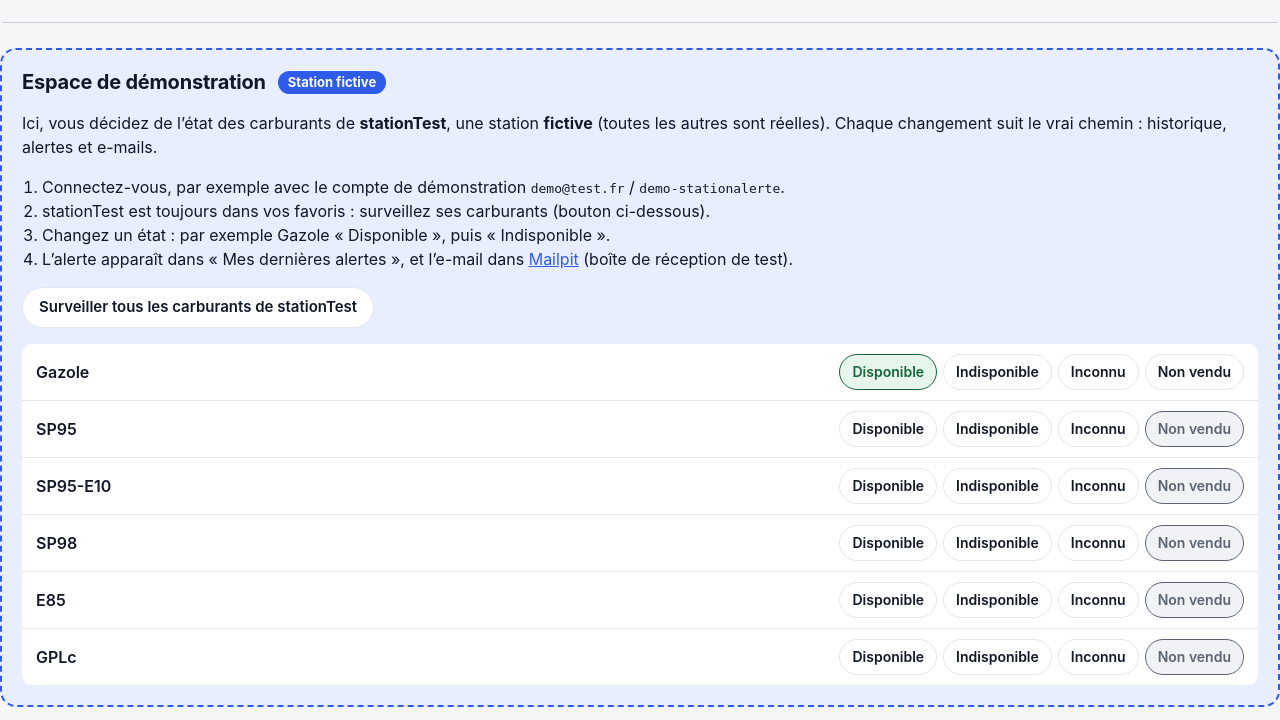
Scenario: DemoPanel › explique l’absence d’alerte quand le surveillant est arrêté
Expected: the heading "Espace de démonstration" is shown, x1=22 y1=70 x2=266 y2=95
Click the 1st button "Indisponible".
click(997, 372)  # box x1=943 y1=354 x2=1052 y2=390
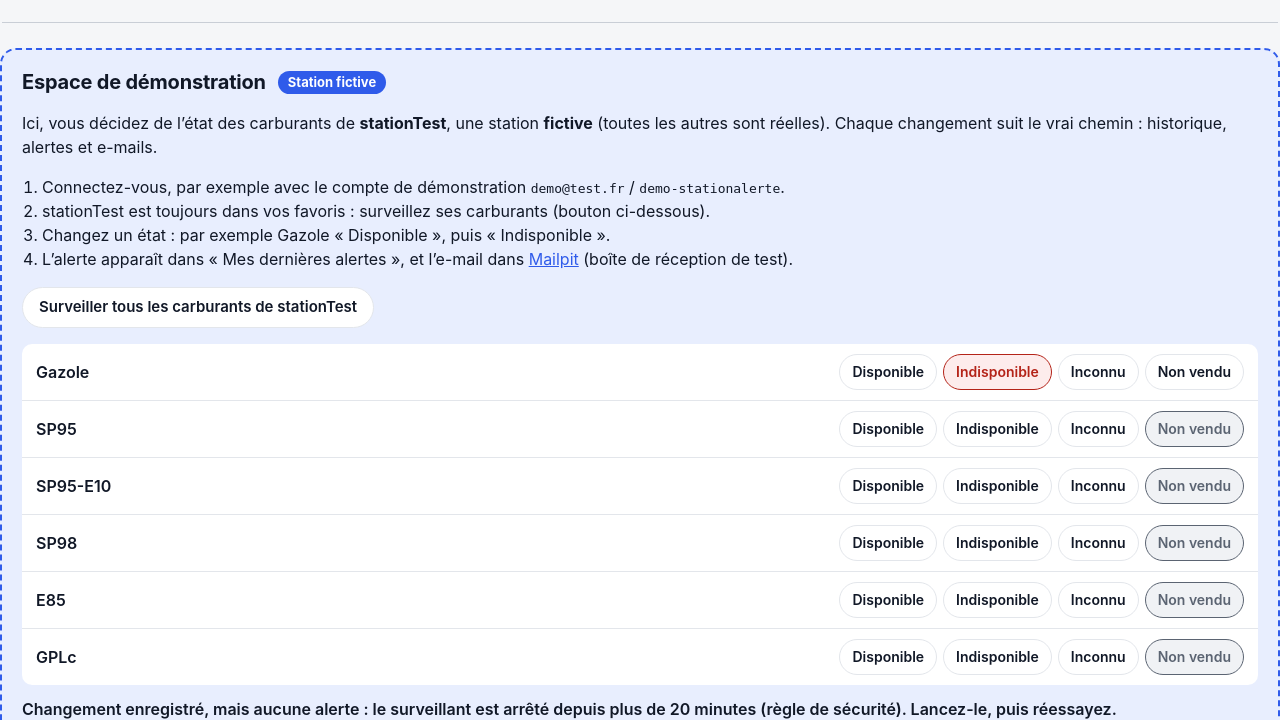
Expected: the message shows "le surveillant est arrêté", x1=22 y1=698 x2=1117 y2=718
